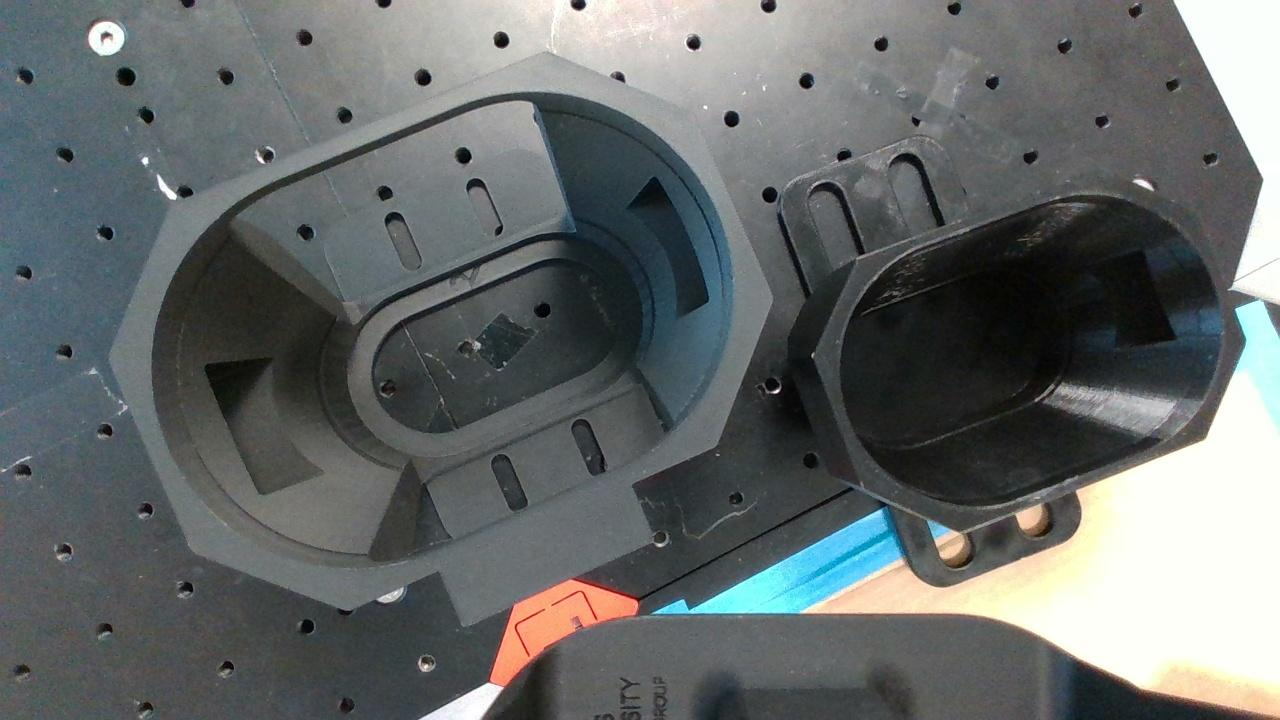big_interface: (110, 52, 774, 611)
small_interface: (812, 173, 1247, 535)
